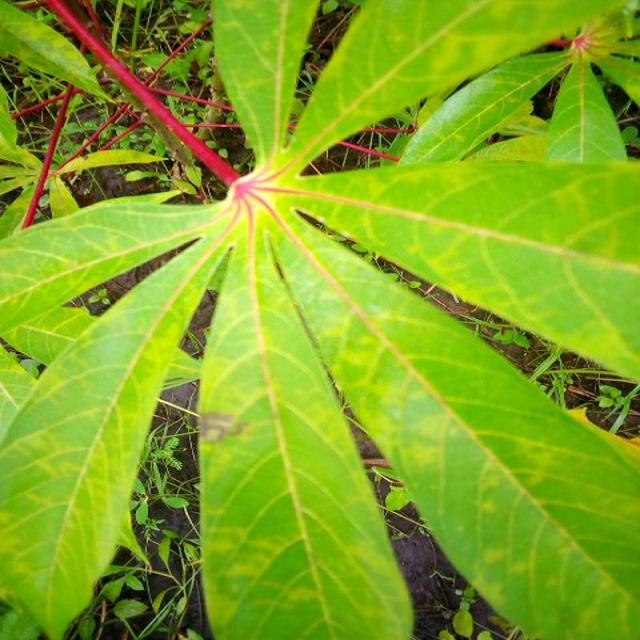cassava leaf: (0, 0, 638, 638), (196, 211, 414, 638)
